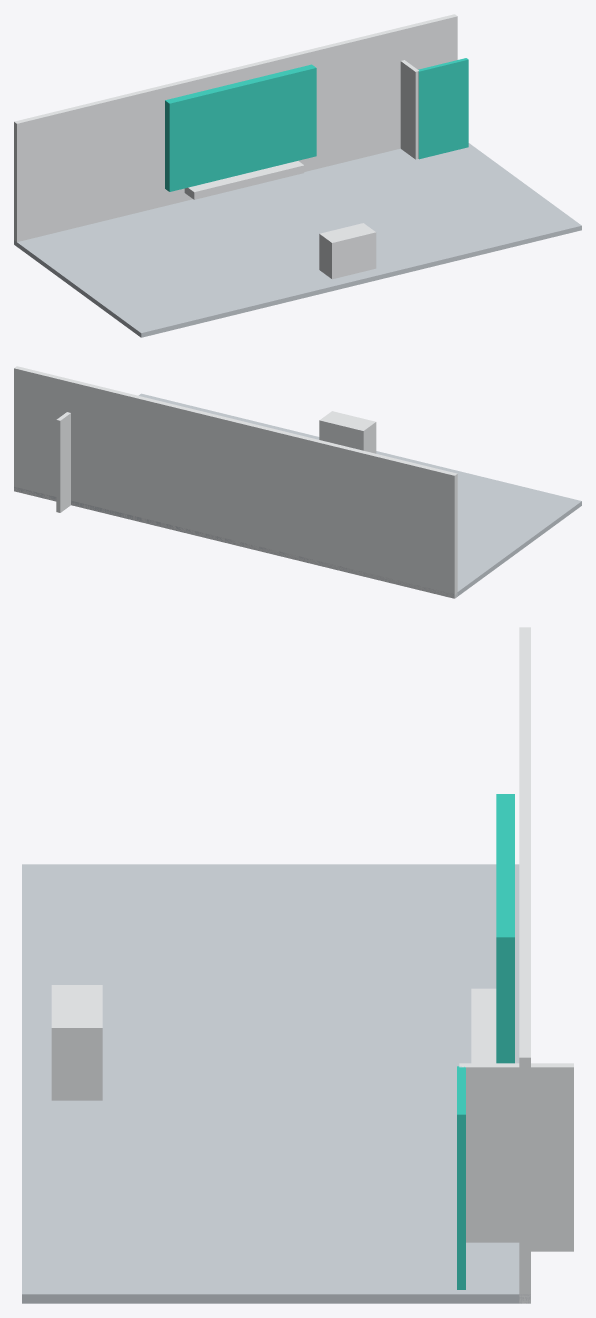
3 renders of one model, top to bottom at view 1: azimuth 30°, elevation 25°; view 2: azimuth 150°, elevation 25°; view 3: azimuth 270°, elevation 25°, orthographic. The views are drawn at different scales.
Parts seen in each view (by area): view 1: Exhibition Booth Concept; view 2: Exhibition Booth Concept; view 3: Exhibition Booth Concept.
Part boxes in pixels (bbox=[...]): Exhibition Booth Concept: bbox=[14, 14, 581, 337]; Exhibition Booth Concept: bbox=[14, 366, 581, 598]; Exhibition Booth Concept: bbox=[22, 627, 573, 1303].
Bounding box in the file's own units: 12 × 3.2 × 6.51.
